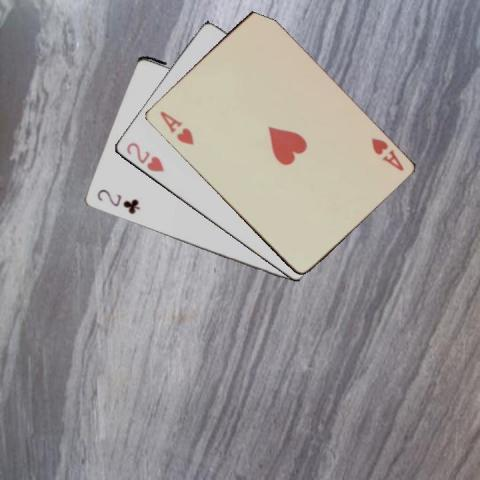2c: (93, 186, 142, 216)
2h: (123, 139, 166, 174)
Ah: (156, 108, 195, 147), (368, 135, 405, 173)
